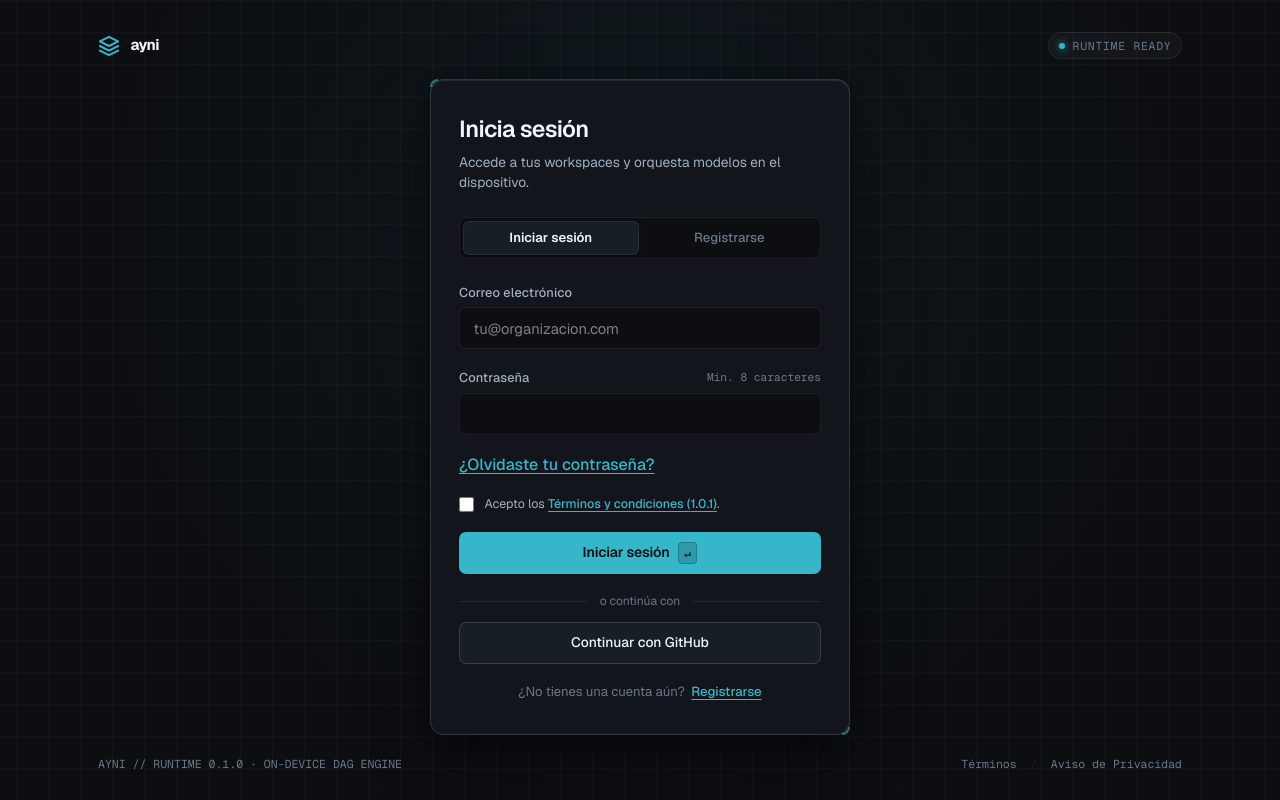
it: AuthDiptych › requires current terms before starting GitHub authorization
What coordinates should you click on to do the following:
click the button "Continuar con GitHub"
I would click on:
 (640, 642)
Its box is [459,622,821,664].
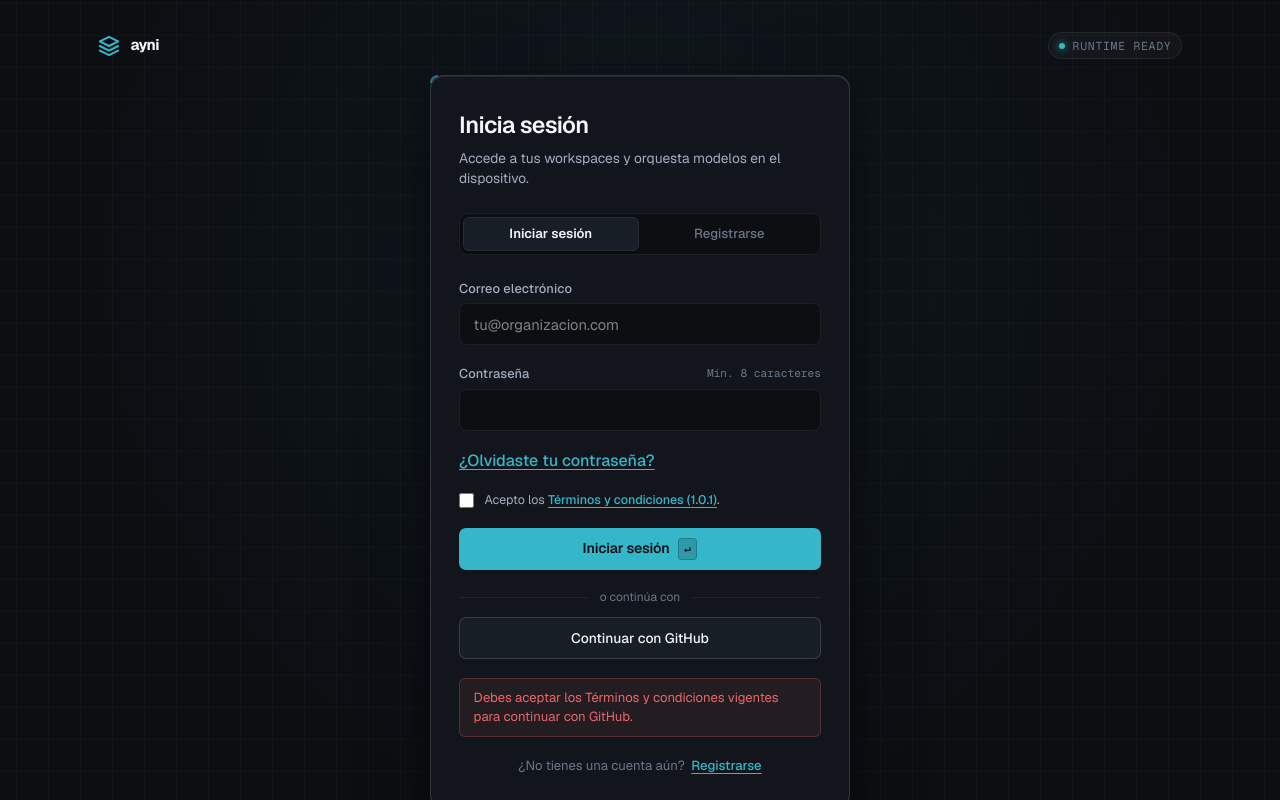
Now the text "Debes aceptar los Términos y condiciones vigentes para continuar con GitHub." is shown, box [459,678,821,737]
